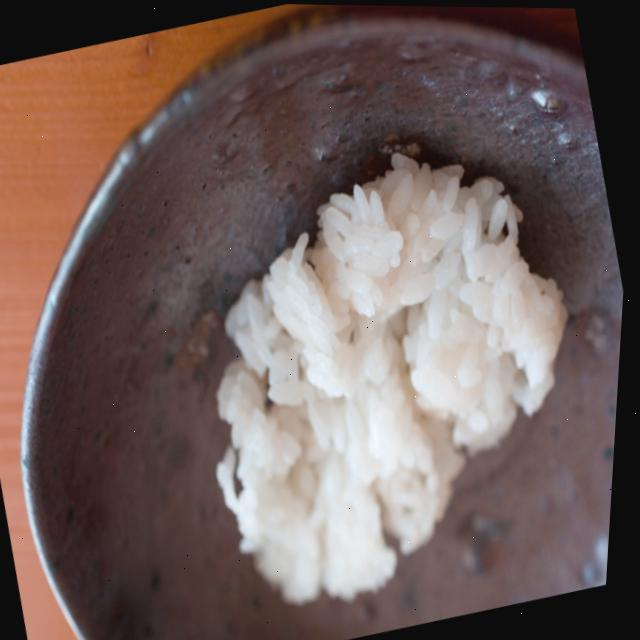米饭主食: (142, 123, 634, 640)
